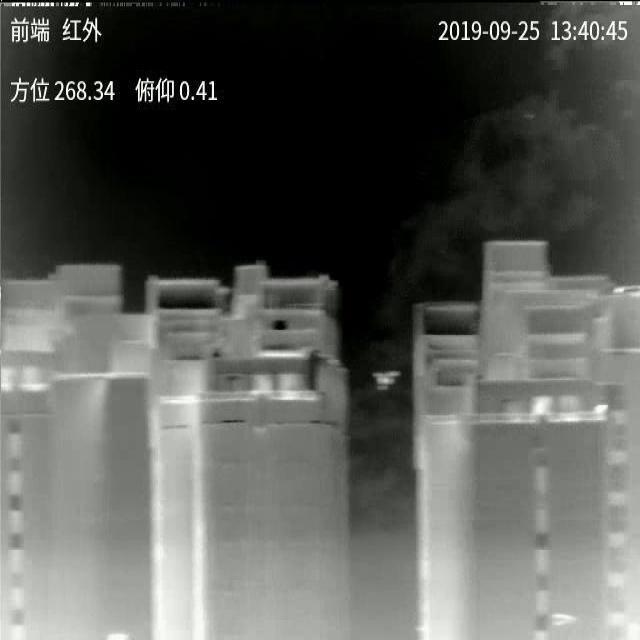drone: (373, 371, 400, 390)
